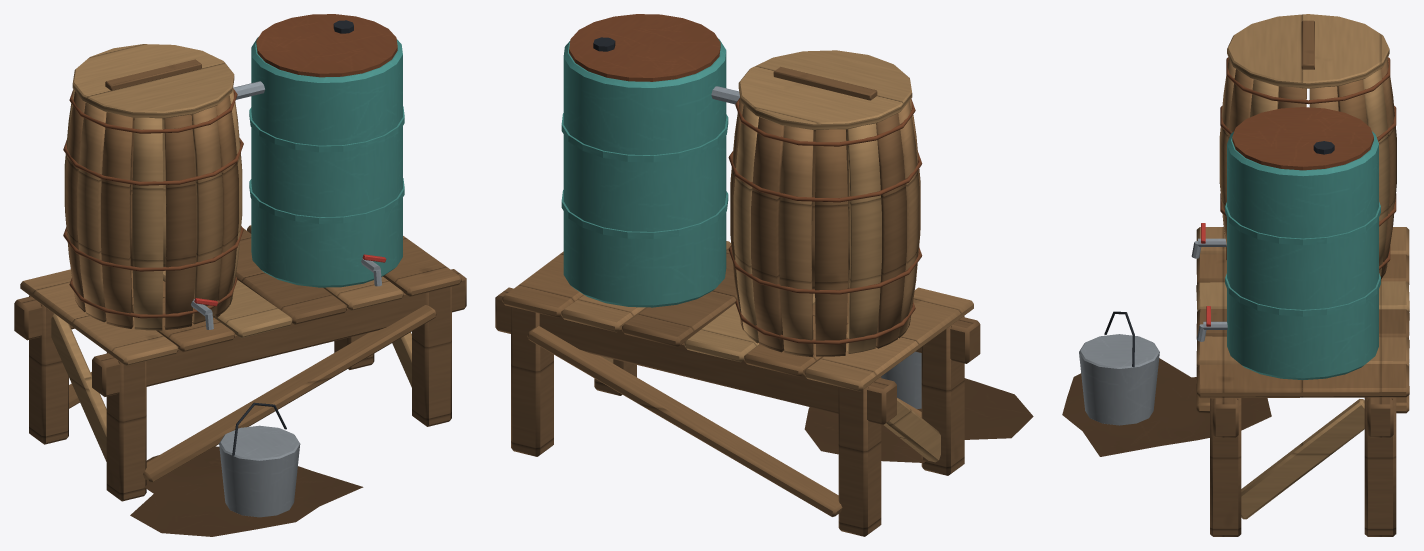
Rendered from water_butt_stand.glb.
3 views of the same model, side by side, from view 1: azimuth 30°, elevation 25°; view 2: azimuth 150°, elevation 25°; view 3: azimuth 270°, elevation 25° (orthographic). The views are drawn at different scales.
Visible parts, largest first — view 1: water_butt_stand; view 2: water_butt_stand; view 3: water_butt_stand.
Part boxes in pixels (x1=…): water_butt_stand: x1=14, y1=14, x2=466, y2=536; water_butt_stand: x1=495, y1=14, x2=1033, y2=536; water_butt_stand: x1=1062, y1=14, x2=1409, y2=536.
Size of the model in its own units: 1.6 by 1.57 by 1.32.
17 materials, 17 textured.
